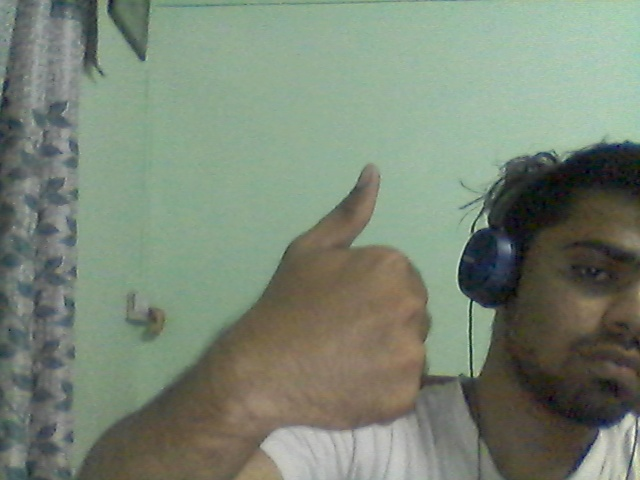Yes: (233, 153, 453, 446)
